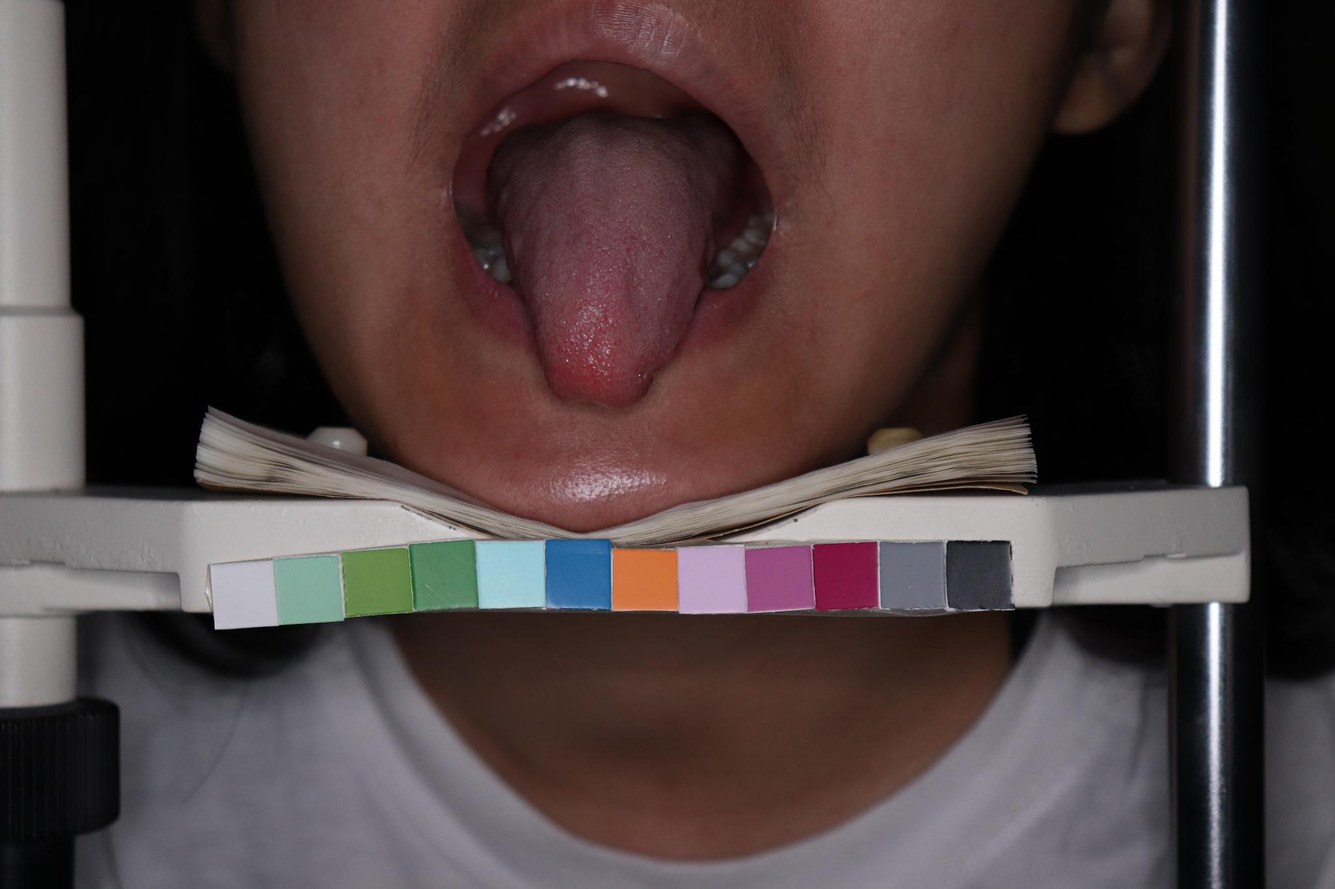baitaishe: (488, 105, 710, 416)
shoushe: (488, 105, 710, 416)
